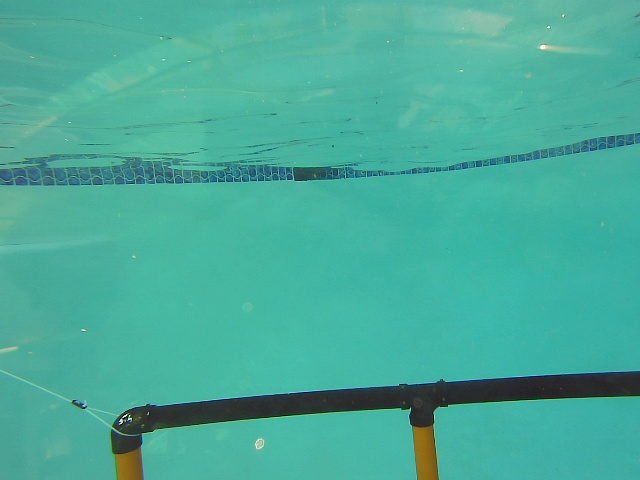Gate: (103, 366, 640, 474)
